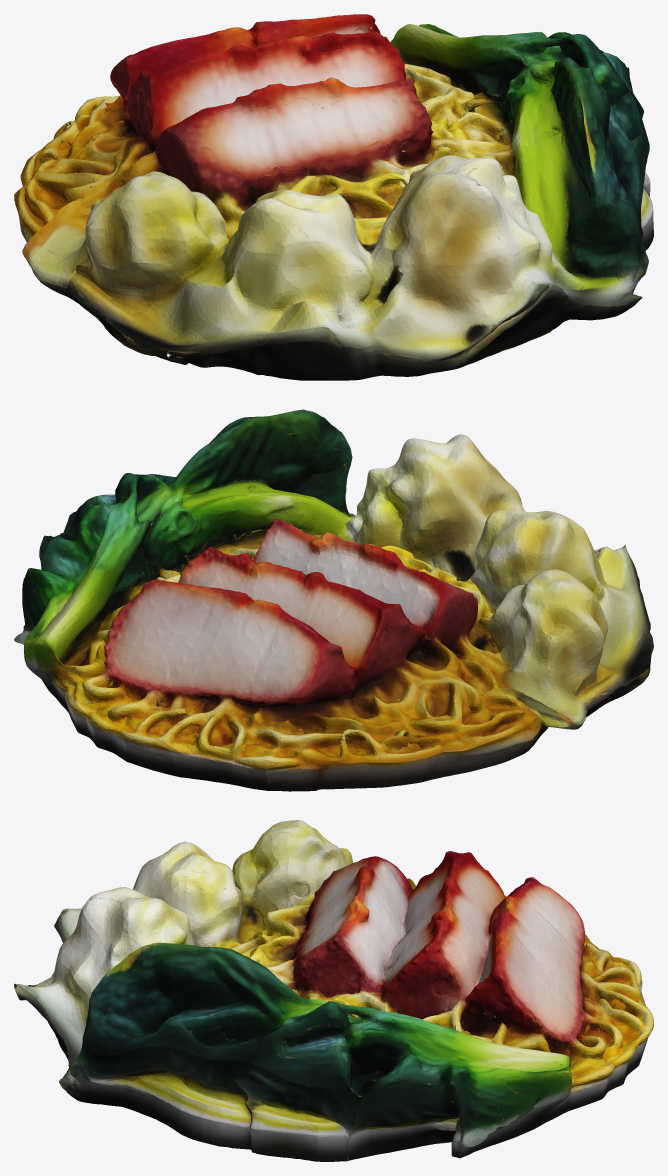
The model's file is wantonnoodle.fbx.
3 views of the same model, one above another, from view 1: azimuth 30°, elevation 25°; view 2: azimuth 150°, elevation 25°; view 3: azimuth 270°, elevation 25° (orthographic). The views are drawn at different scales.
Visible parts, largest first — view 1: world; view 2: world; view 3: world.
Part boxes in pixels (x1,y1,x2,y2): world: (14, 14, 653, 380); world: (14, 409, 653, 791); world: (14, 820, 653, 1161).
Bounding box in the file's own units: 93.67 × 27.88 × 99.23.
